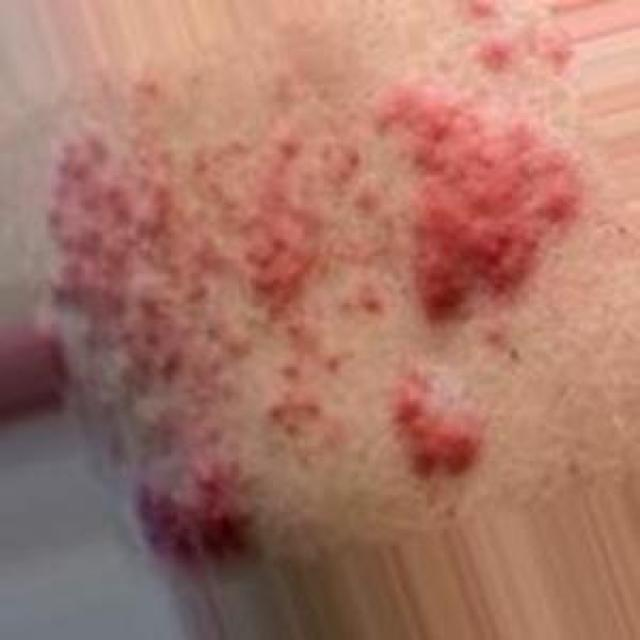Shingles: (47, 84, 587, 565)
